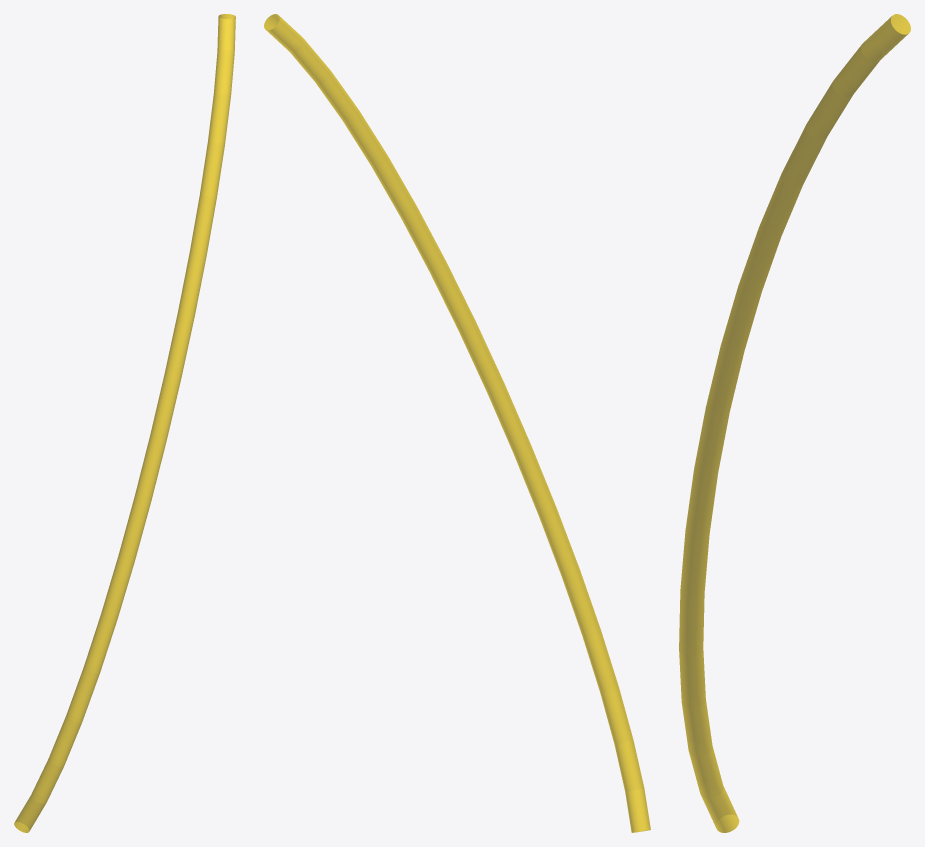
File: Event_27938768_track_37.fbx
The picture shows the model from 3 angles, left to right: view 1: azimuth 30°, elevation 25°; view 2: azimuth 150°, elevation 25°; view 3: azimuth 270°, elevation 25°; orthographic projection. The views are drawn at different scales.
Visible parts, largest first — view 1: Model; view 2: Model; view 3: Model.
Part boxes in pixels (x1=…): Model: x1=14, y1=14, x2=235, y2=832; Model: x1=264, y1=14, x2=650, y2=832; Model: x1=679, y1=14, x2=910, y2=832.
Bounding box in the file's own units: 0.7448 × 1.8 × 0.3794.
